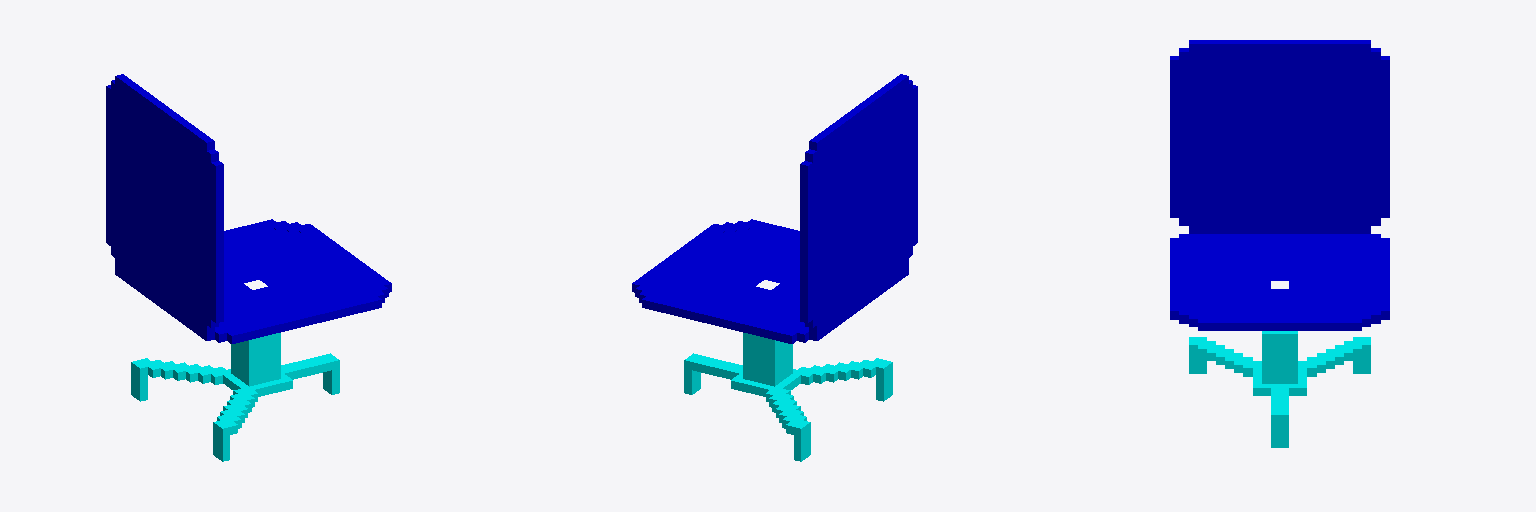
3 views of the same model, side by side, from view 1: azimuth 30°, elevation 25°; view 2: azimuth 150°, elevation 25°; view 3: azimuth 270°, elevation 25° (orthographic).
Visible parts, largest first — view 1: test_01; view 2: test_01; view 3: test_01.
Boxes of the visible parts, <box> form: test_01: <box>106,74,391,461</box>; test_01: <box>632,74,917,461</box>; test_01: <box>1170,40,1389,447</box>.
Bounding box in the file's own units: 24 × 41 × 24.
1 materials, 1 textured.